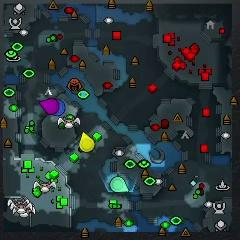p1: (55, 98, 65, 116)
p2: (110, 176, 129, 193)
p3: (38, 98, 58, 115)
p4: (79, 132, 95, 153)
